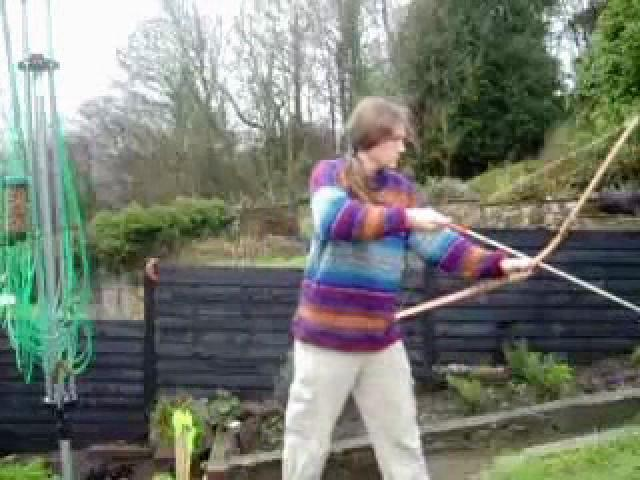I: (273, 75, 543, 480)
